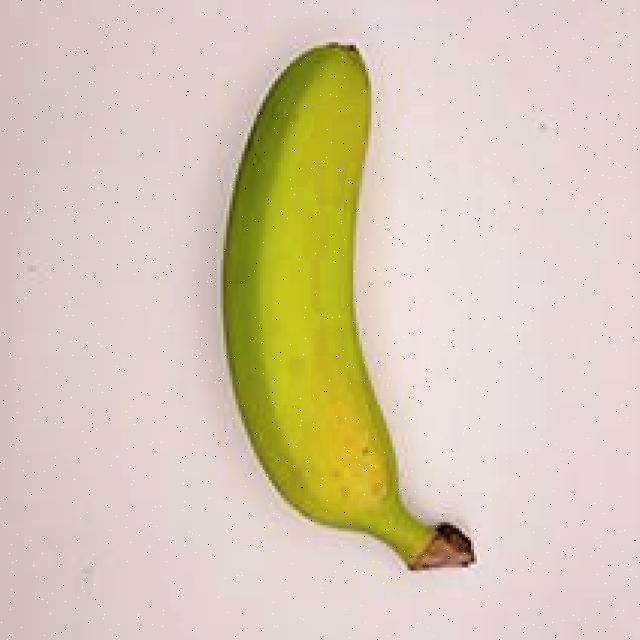Unripe: (178, 21, 526, 600)
